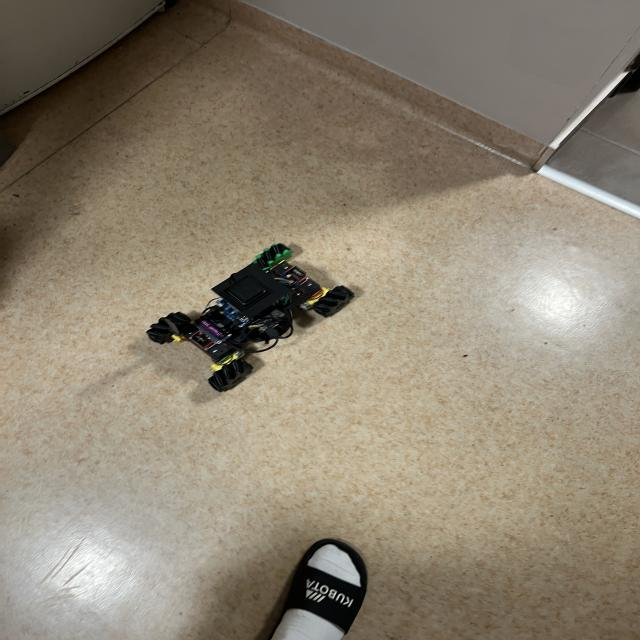robot: (147, 243, 354, 392)
